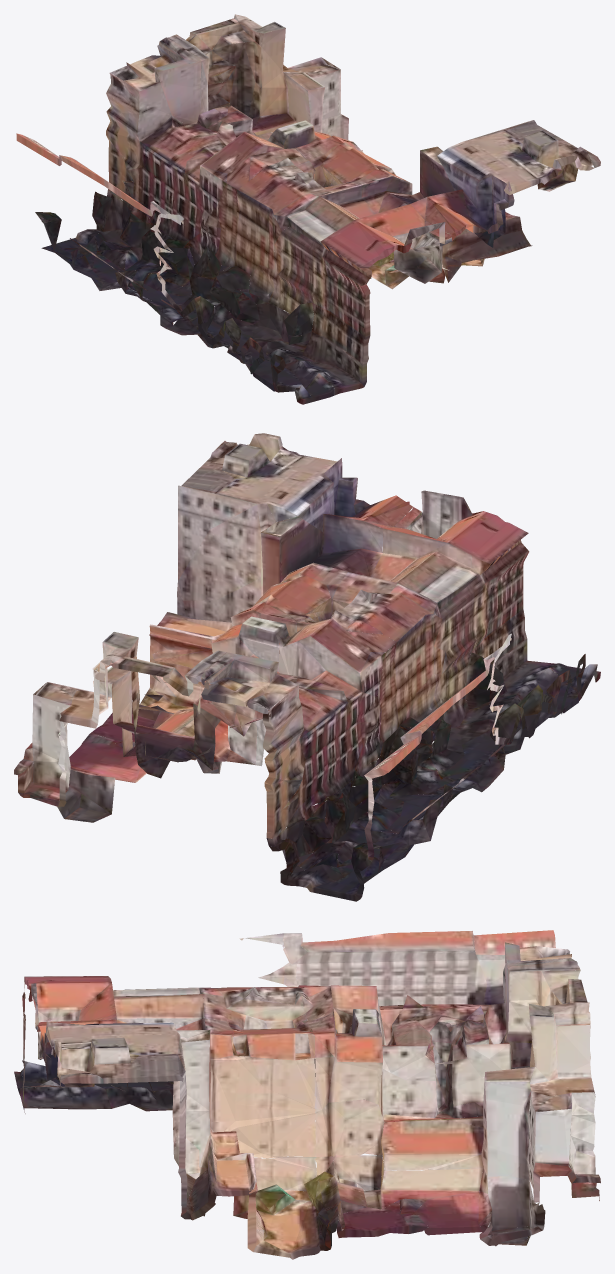
The picture shows the model from 3 angles, top to bottom: view 1: azimuth 30°, elevation 25°; view 2: azimuth 150°, elevation 25°; view 3: azimuth 270°, elevation 25°; orthographic projection. The views are drawn at different scales.
Visible parts, largest first — view 1: Mesh_0; view 2: Mesh_0; view 3: Mesh_0.
Part boxes in pixels (x1=…): Mesh_0: x1=16, y1=14, x2=600, y2=404; Mesh_0: x1=14, y1=433, x2=600, y2=901; Mesh_0: x1=14, y1=930, x2=600, y2=1259.
Size of the model in its own units: 66.93 by 33.48 by 82.49.
2 materials, 2 textured.
